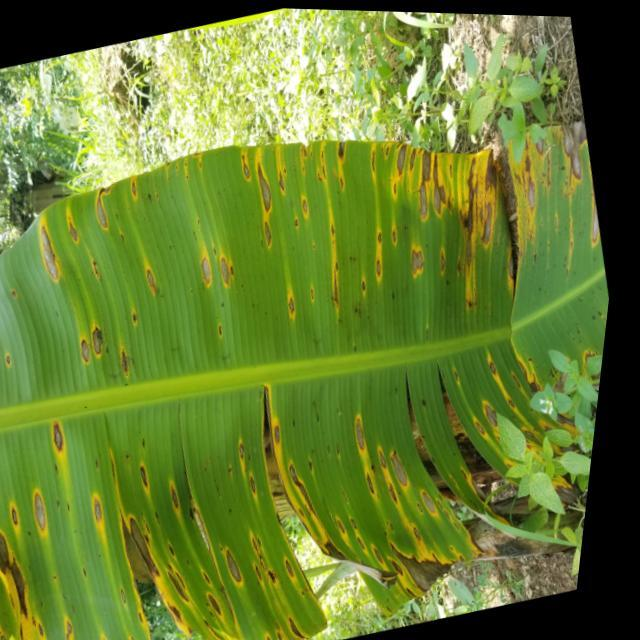Early_rust: (0, 134, 605, 626)
